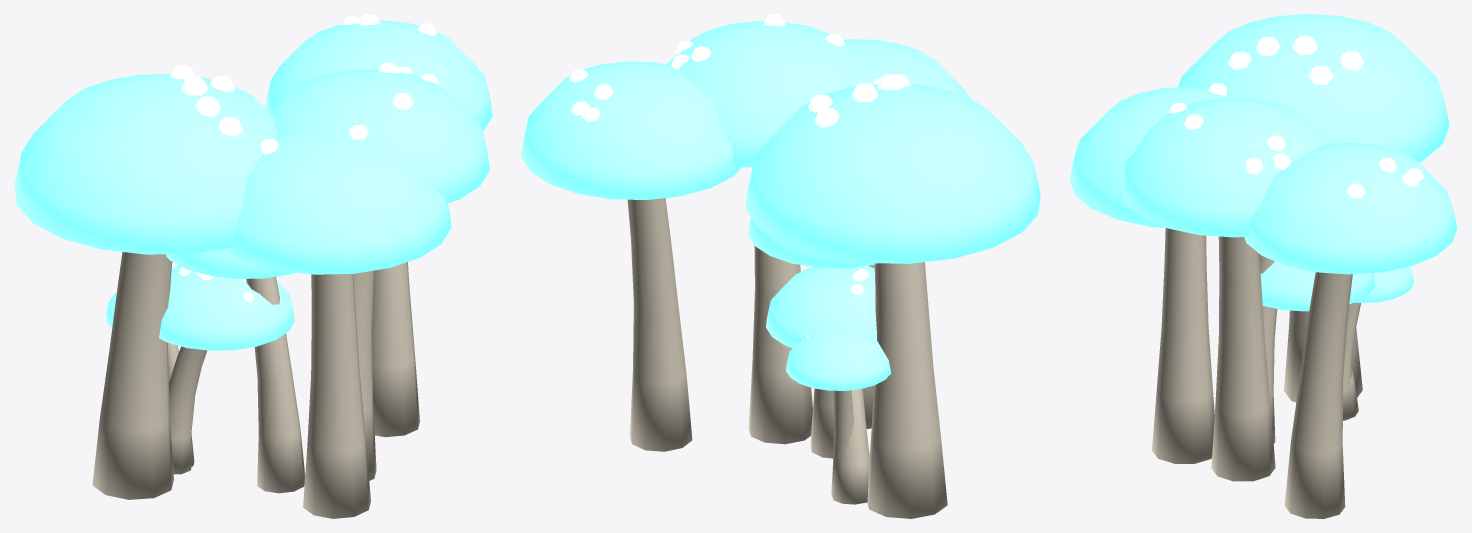
Rendered from nest-glowshrooma.glb.
3 renders of one model, left to right at view 1: azimuth 30°, elevation 25°; view 2: azimuth 150°, elevation 25°; view 3: azimuth 270°, elevation 25°, orthographic. The views are drawn at different scales.
Parts seen in each view (by area): view 1: GlowShroomA__Caps, GlowShroomA__Stems, GlowShroomA__Spots; view 2: GlowShroomA__Caps, GlowShroomA__Stems, GlowShroomA__Spots; view 3: GlowShroomA__Caps, GlowShroomA__Stems, GlowShroomA__Spots.
Boxes of the visible parts, x1,y1,x2,y2 form: GlowShroomA__Caps: (14,20,492,350); GlowShroomA__Stems: (92,252,419,518); GlowShroomA__Spots: (170,14,439,302); GlowShroomA__Caps: (521,21,1040,390); GlowShroomA__Stems: (627,167,947,518); GlowShroomA__Spots: (569,14,910,337); GlowShroomA__Caps: (1069,14,1457,311); GlowShroomA__Stems: (1152,228,1362,518); GlowShroomA__Spots: (1169,36,1423,198).
Bounding box in the file's own units: 7.95 × 6.55 × 6.07.
